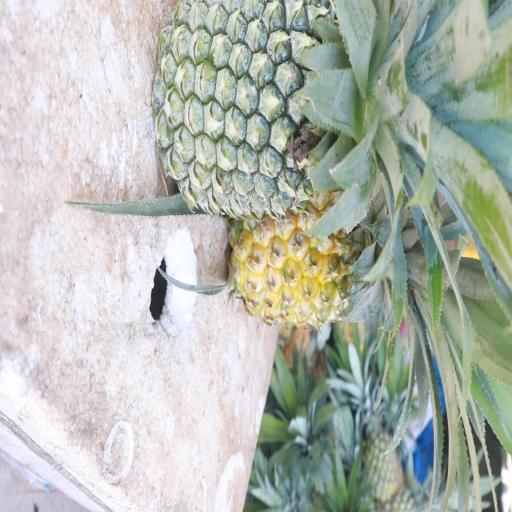Pineapple - v8 v1: (236, 212, 498, 402)
